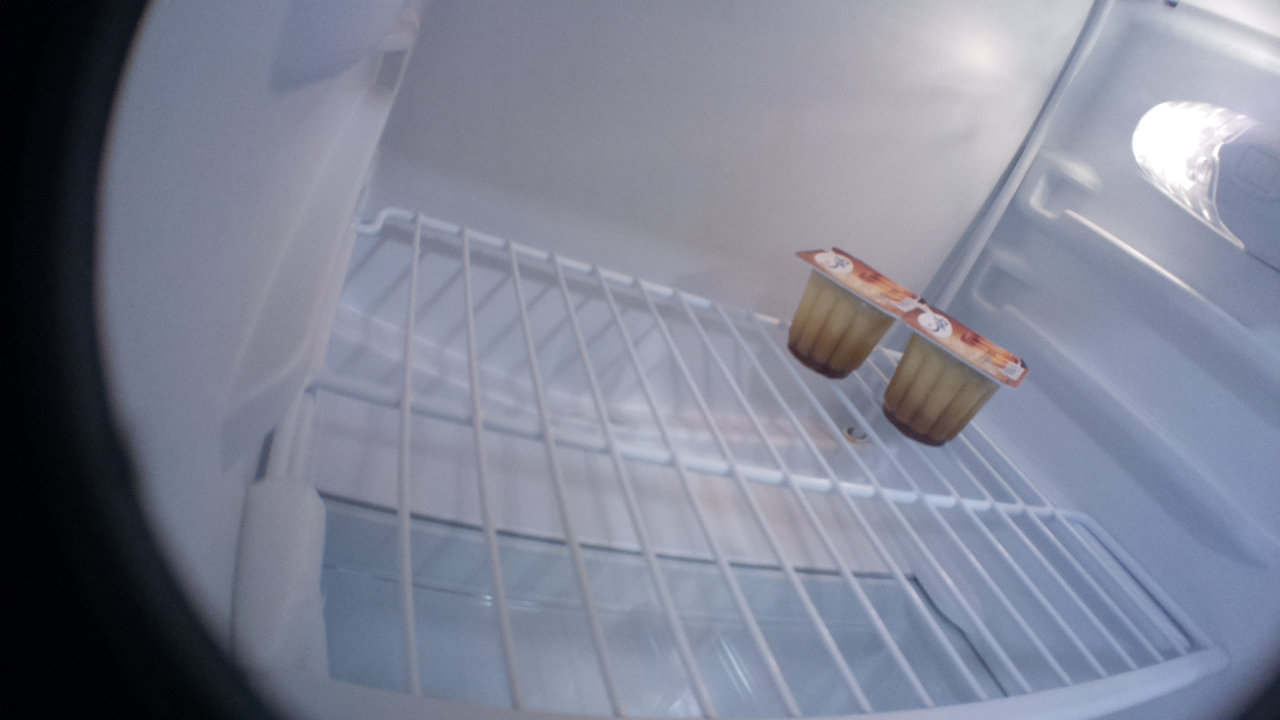caramel: (880, 300, 1030, 446), (786, 245, 924, 379)
